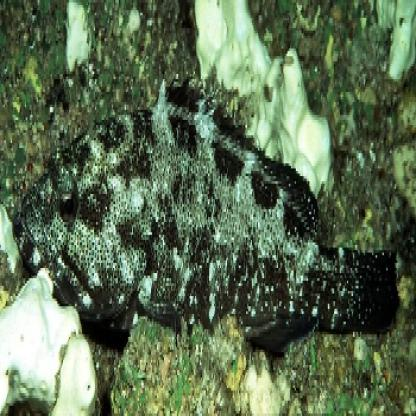grouper: (8, 70, 400, 358)
